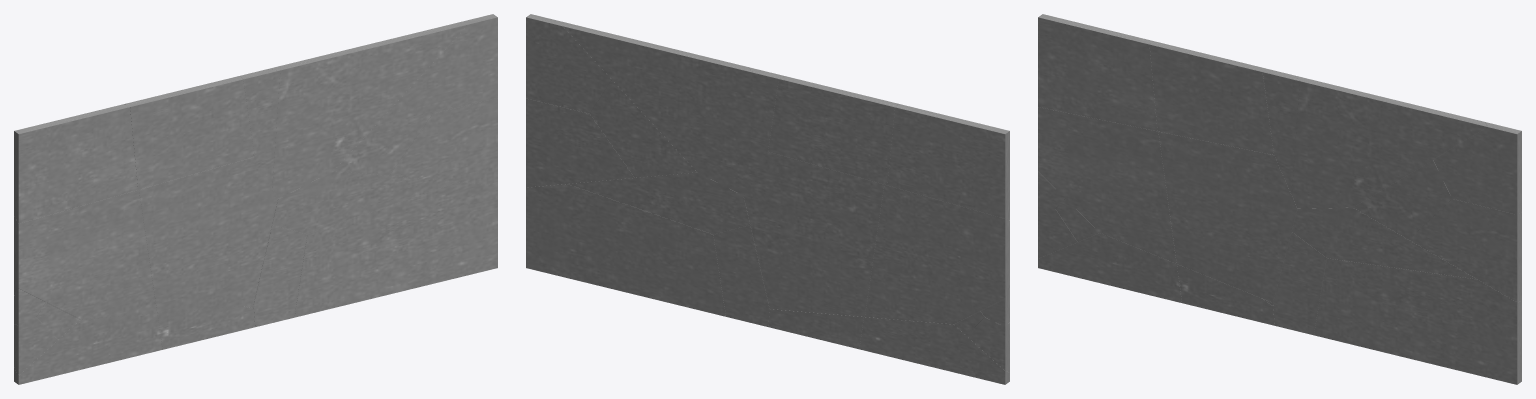
File: BreakableWall1.glb
3 views of the same model, side by side, from view 1: azimuth 30°, elevation 25°; view 2: azimuth 150°, elevation 25°; view 3: azimuth 330°, elevation 25° (orthographic).
Visible parts, largest first — view 1: main_cell.001_cell.002, main_cell.003_cell.002, main_cell.002_cell, main_cell.003_cell, main_cell.005_cell, main_cell.005_cell.002, main_cell_cell.002, main_cell.001_cell, main_cell.004_cell.002, main_cell_cell, main_cell_cell.001, main_cell.001_cell.001 (+5 smaller); view 2: main_cell.003_cell.002, main_cell.001_cell.002, main_cell.003_cell, main_cell.002_cell, main_cell.005_cell, main_cell.005_cell.002, main_cell_cell.002, main_cell.001_cell, main_cell_cell, main_cell.004_cell.002, main_cell_cell.001, main_cell.001_cell.001 (+4 smaller); view 3: main_cell.001_cell.002, main_cell.003_cell.002, main_cell.002_cell, main_cell.003_cell, main_cell.005_cell, main_cell.005_cell.002, main_cell_cell.002, main_cell.001_cell, main_cell_cell, main_cell.004_cell.002, main_cell_cell.001, main_cell.001_cell.001 (+5 smaller).
Boxes of the visible parts, box(x1,y1,x2,y2) form: main_cell.001_cell.002: box(294, 182, 497, 317); main_cell.003_cell.002: box(139, 157, 277, 313); main_cell.002_cell: box(267, 23, 467, 198); main_cell.003_cell: box(14, 190, 156, 319); main_cell.005_cell: box(14, 104, 137, 223); main_cell.005_cell.002: box(124, 75, 253, 189); main_cell_cell.002: box(389, 98, 497, 185); main_cell.001_cell: box(272, 171, 457, 234); main_cell.004_cell.002: box(14, 313, 162, 384); main_cell_cell: box(414, 14, 497, 113); main_cell_cell.001: box(334, 84, 432, 175); main_cell.001_cell.001: box(253, 225, 307, 326); main_cell.003_cell.002: box(743, 151, 884, 316); main_cell.001_cell.002: box(526, 184, 725, 316); main_cell.003_cell: box(865, 184, 1009, 324); main_cell.002_cell: box(560, 21, 759, 195); main_cell.005_cell: box(887, 103, 1009, 220); main_cell.005_cell.002: box(768, 76, 897, 185); main_cell_cell.002: box(526, 98, 634, 187); main_cell.001_cell: box(568, 172, 750, 234); main_cell_cell: box(526, 14, 611, 113); main_cell.004_cell.002: box(859, 317, 1009, 384); main_cell_cell.001: box(590, 80, 696, 177); main_cell.001_cell.001: box(713, 225, 769, 326); main_cell.001_cell.002: box(1314, 258, 1521, 384); main_cell.003_cell.002: box(1158, 131, 1297, 302); main_cell.002_cell: box(1291, 75, 1487, 208); main_cell.003_cell: box(1038, 107, 1176, 263); main_cell.005_cell: box(1038, 14, 1157, 131); main_cell.005_cell.002: box(1149, 41, 1273, 154); main_cell_cell.002: box(1409, 199, 1521, 302); main_cell.001_cell: box(1291, 207, 1476, 279); main_cell_cell: box(1433, 122, 1521, 214); main_cell.004_cell.002: box(1038, 233, 1181, 302); main_cell_cell.001: box(1353, 160, 1451, 239); main_cell.001_cell.001: box(1273, 232, 1326, 335).
Size of the model in its own units: 12 by 6 by 0.2.
1 material, 1 textured.
